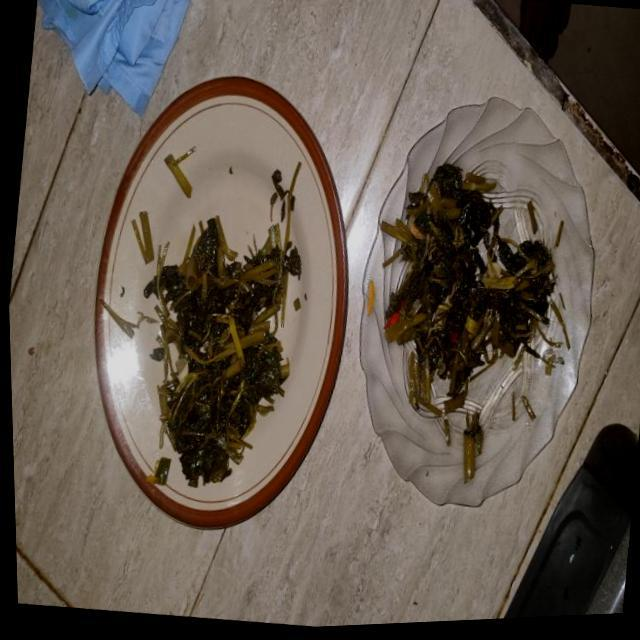tumis_kangkung: (385, 163, 554, 414), (154, 216, 300, 486)
